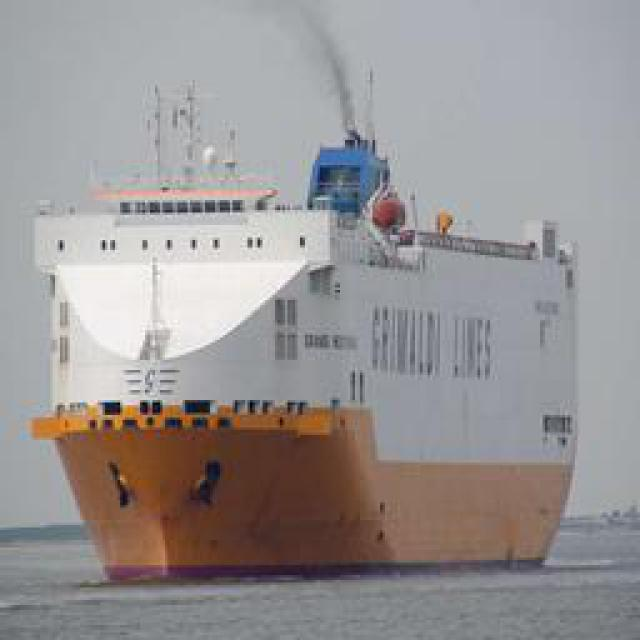Ship: (23, 49, 581, 582)
